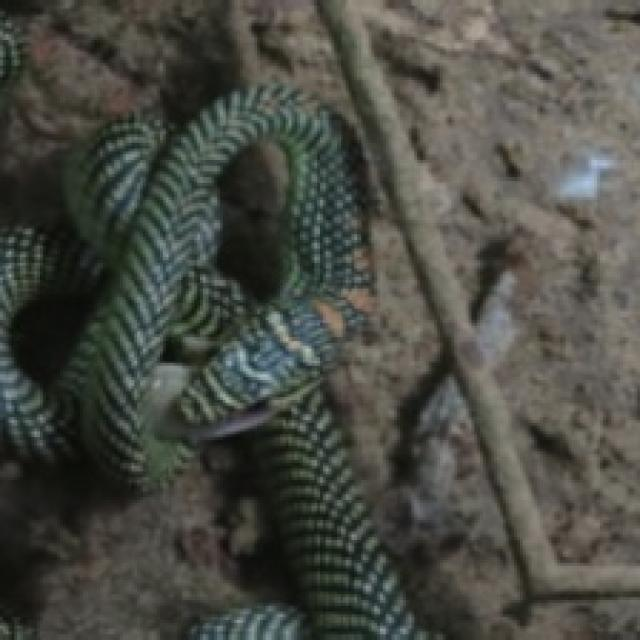paradise tree snake: (0, 3, 431, 637)
